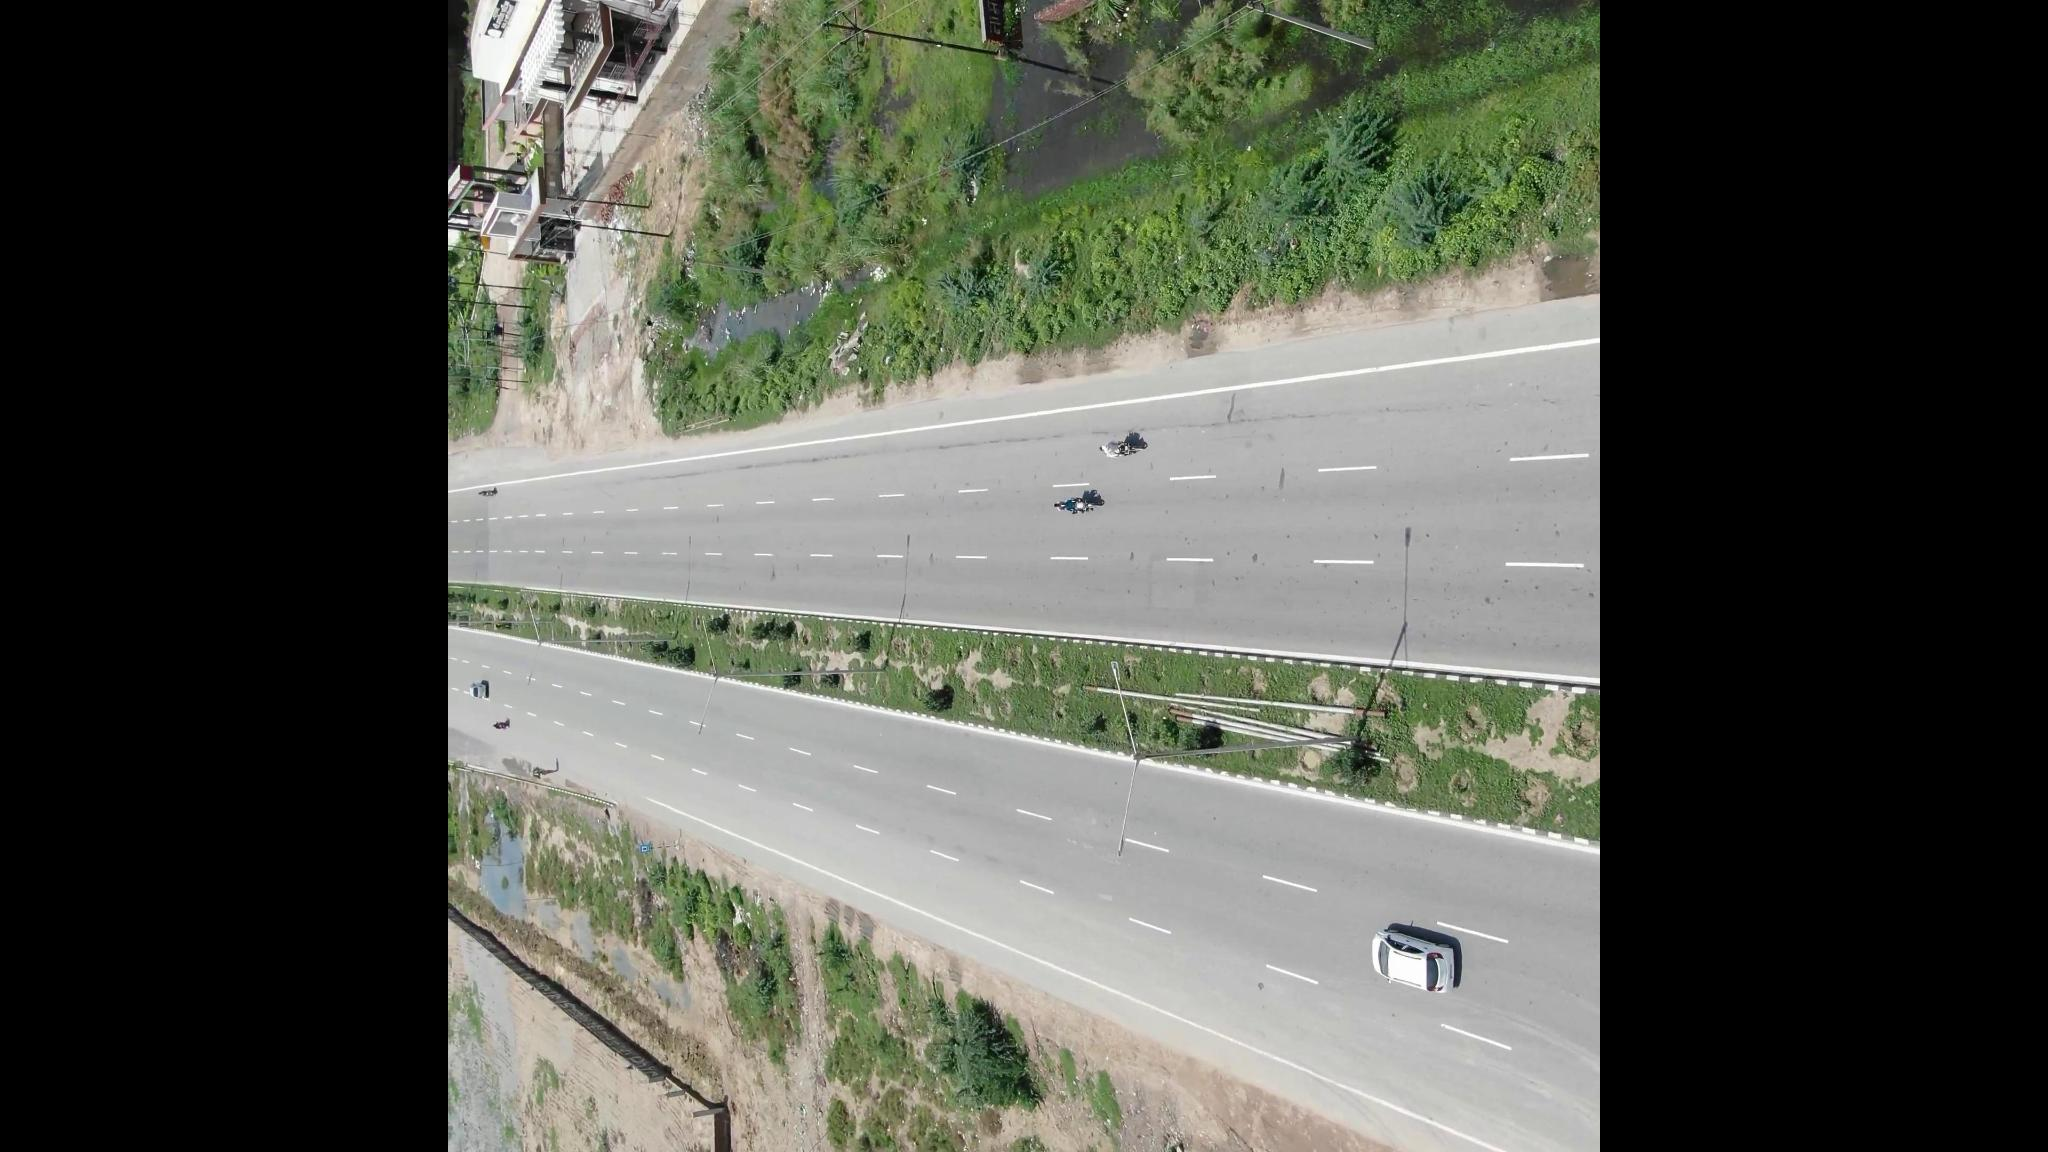Cracks: (886, 428, 1089, 454), (667, 454, 848, 481)
